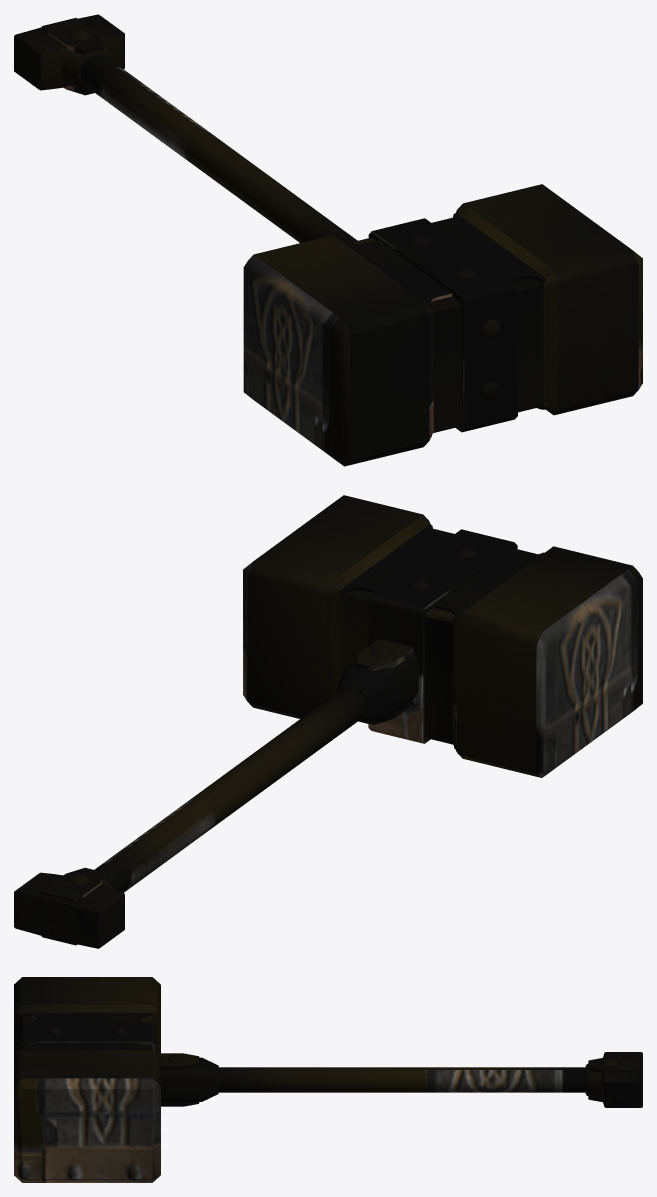
Rendered from BloodfangHammer.fbx.
3 views of the same model, one above another, from view 1: azimuth 30°, elevation 25°; view 2: azimuth 150°, elevation 25°; view 3: azimuth 270°, elevation 25° (orthographic). The views are drawn at different scales.
Visible parts, largest first — view 1: Object_2; view 2: Object_2; view 3: Object_2.
Part boxes in pixels (bbox=[...]): Object_2: bbox=[14, 14, 642, 466]; Object_2: bbox=[14, 495, 642, 948]; Object_2: bbox=[14, 977, 642, 1182].
Bounding box in the file's own units: 78.84 × 35.56 × 194.
